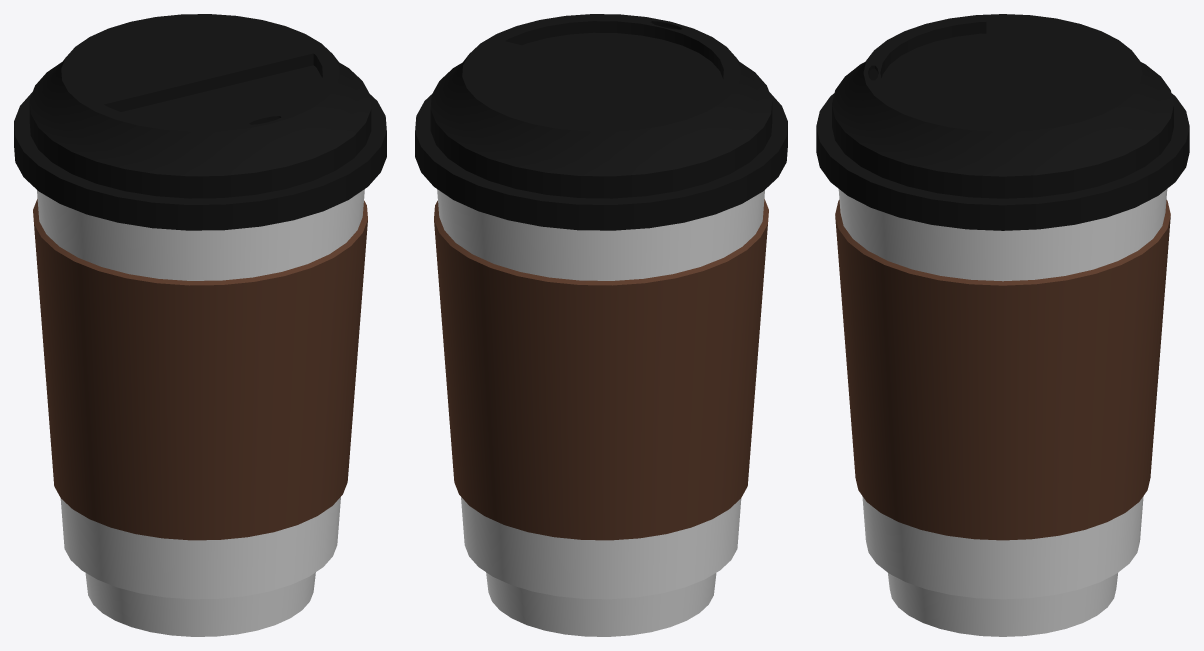
The model's file is CoffeeCup.fbx.
3 views of the same model, side by side, from view 1: azimuth 30°, elevation 25°; view 2: azimuth 150°, elevation 25°; view 3: azimuth 270°, elevation 25° (orthographic).
Visible parts, largest first — view 1: CoffeCup; view 2: CoffeCup; view 3: CoffeCup.
Boxes of the visible parts, <box> form: CoffeCup: <box>14,14,386,636</box>; CoffeCup: <box>415,14,787,636</box>; CoffeCup: <box>816,14,1189,636</box>.
Size of the model in its own units: 0.3717 by 0.5667 by 0.3717.
